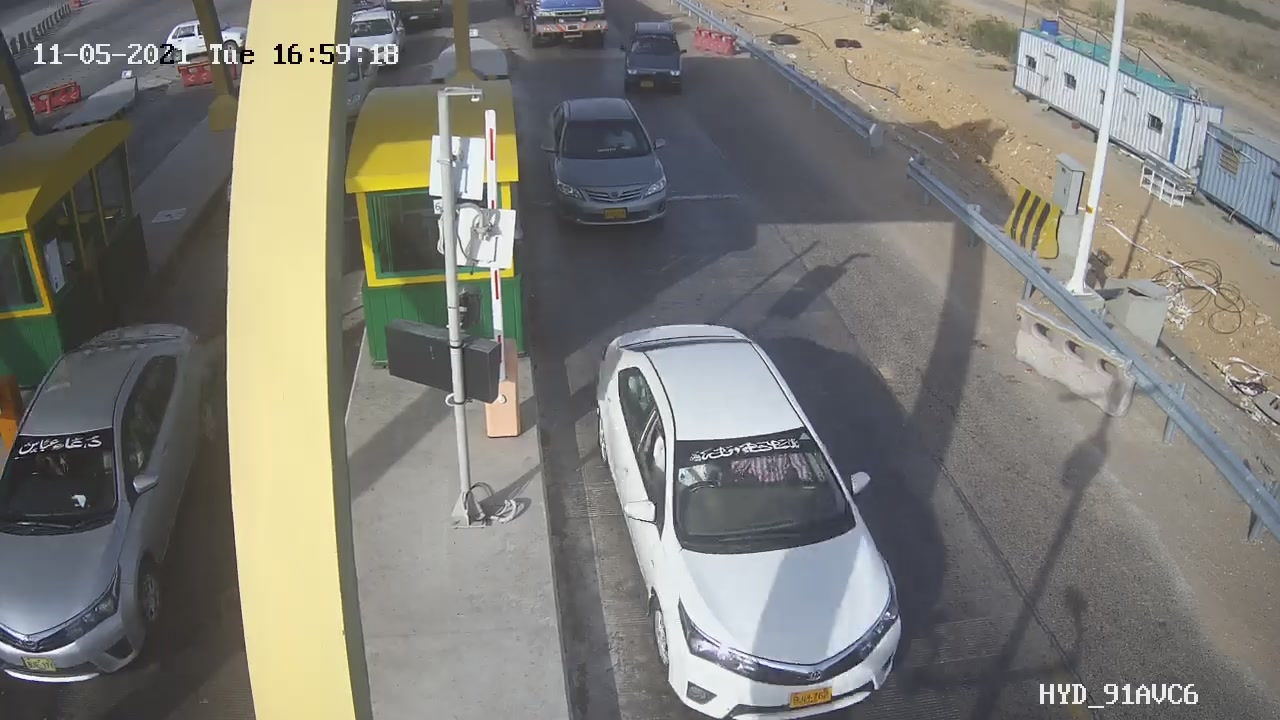F1: (531, 86, 692, 242)
